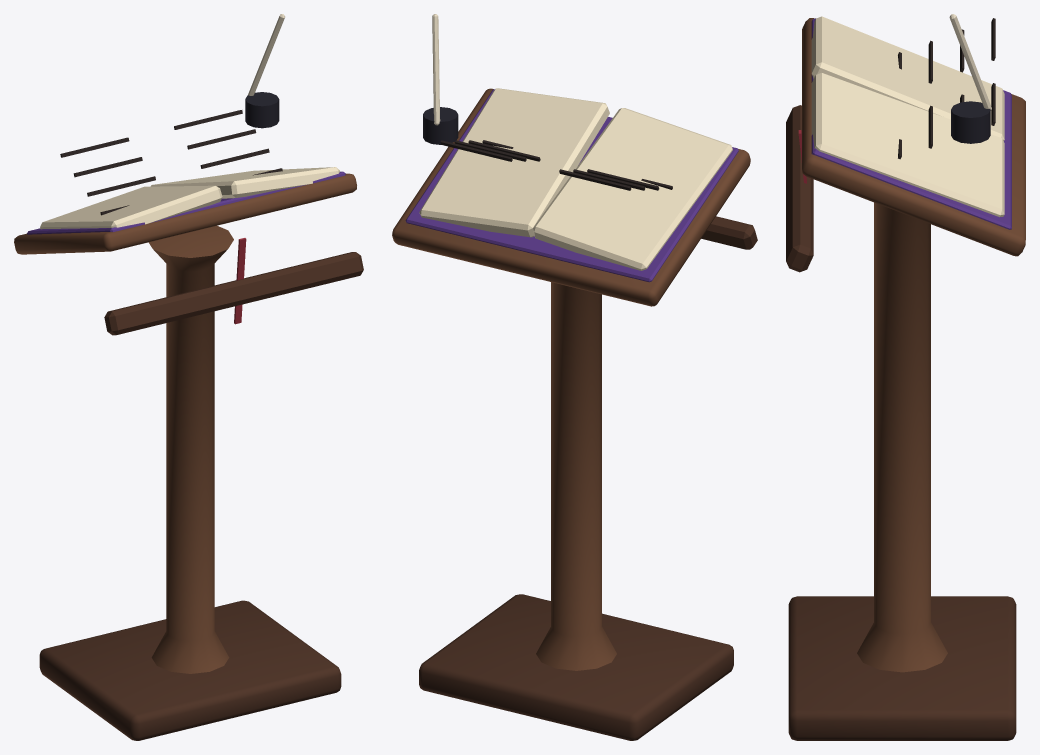
The model's file is magic_lectern.glb.
3 views of the same model, side by side, from view 1: azimuth 30°, elevation 25°; view 2: azimuth 150°, elevation 25°; view 3: azimuth 270°, elevation 25° (orthographic). The views are drawn at different scales.
Parts seen in each view (by area): view 1: magic_lectern; view 2: magic_lectern; view 3: magic_lectern.
Boxes of the visible parts, left/top/right/bottom form: magic_lectern: left=14, top=14, right=363, bottom=740; magic_lectern: left=392, top=14, right=757, bottom=740; magic_lectern: left=786, top=14, right=1025, bottom=740.
Bounding box in the file's own units: 0.6 × 1.42 × 0.4209.
